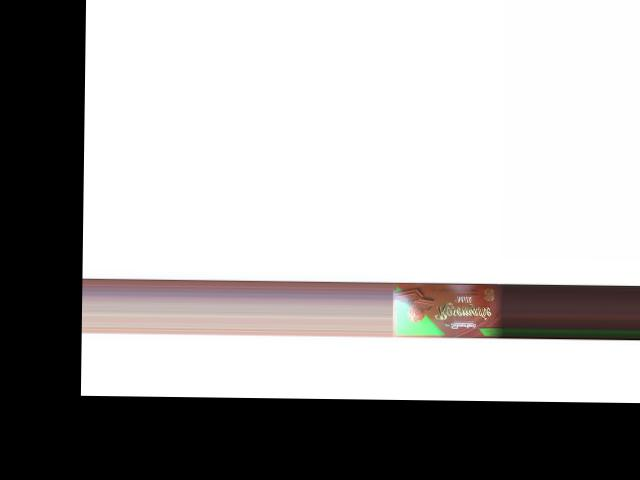chocolate: (394, 283, 504, 336)
